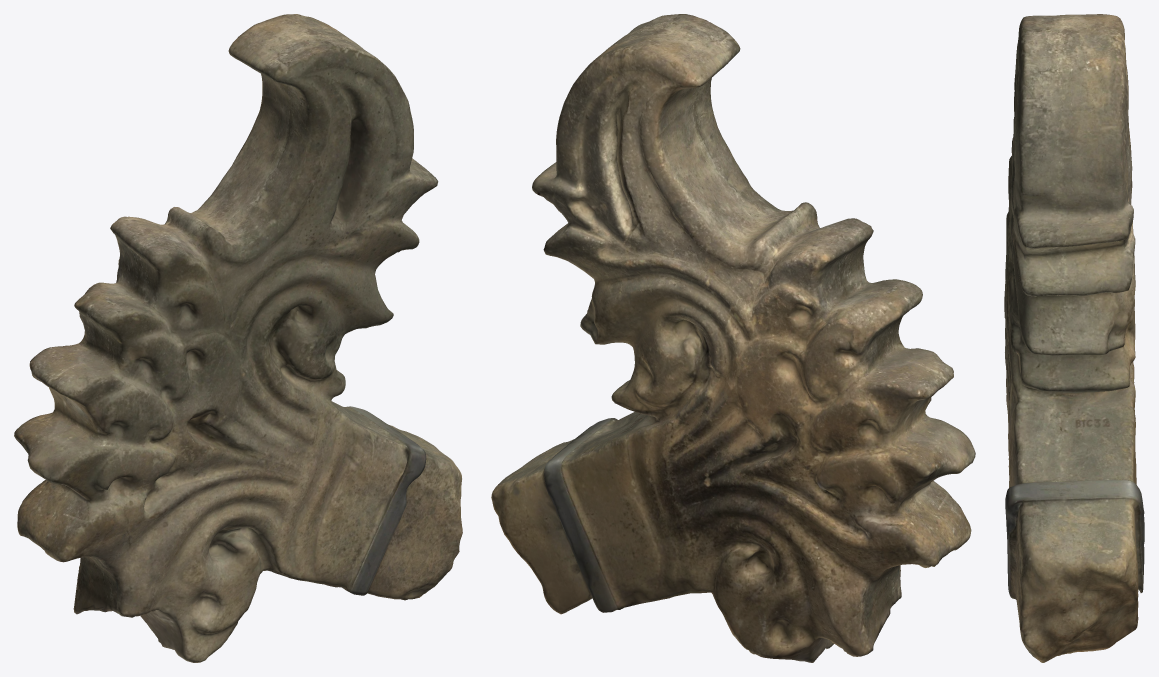
The model's file is 31_vattrangtri_final.glb.
3 views of the same model, side by side, from view 1: azimuth 30°, elevation 25°; view 2: azimuth 150°, elevation 25°; view 3: azimuth 270°, elevation 25° (orthographic). The views are drawn at different scales.
Size of the model in its own units: 0.4296 by 0.5592 by 0.121.
Materials: 1 (1 with a texture image).
